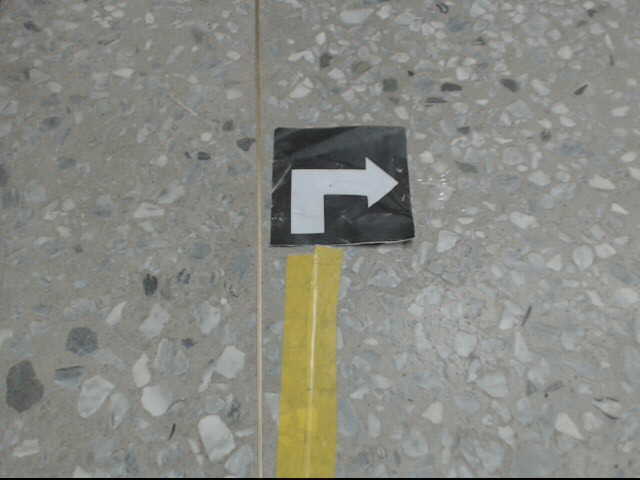right: (271, 126, 416, 247)
